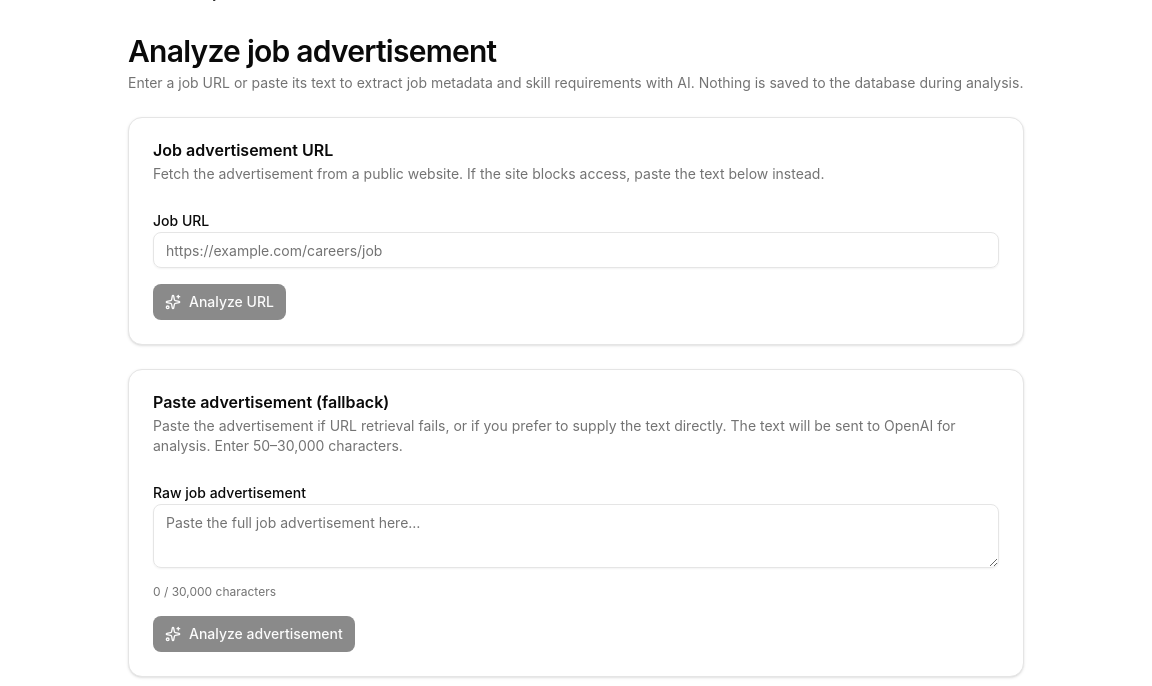
Test: AnalyzeJobView (URL-first) › preserves the URL on retrieval failure and allows manual paste fallback
Type "https://careers.example.com/jobs/42" into the field with id "job-url" at (576, 250), box [153,232,999,268]
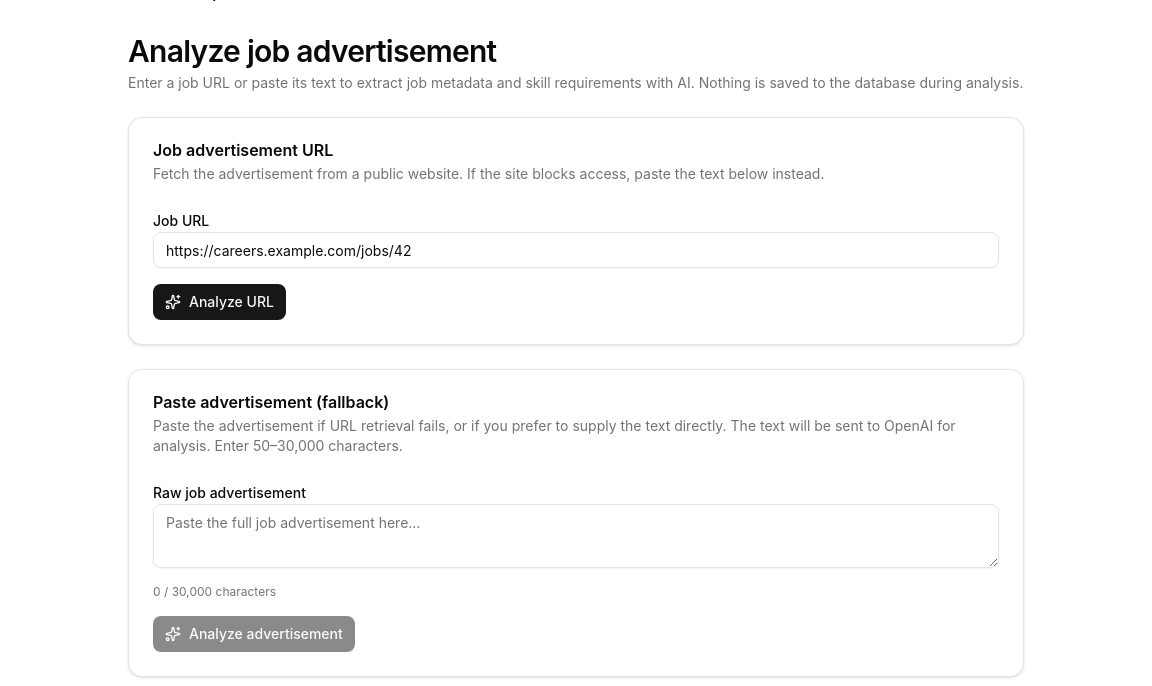
Submit the form, box [153,208,999,320]
Type "Example Company seeks a Senior TypeScript Developer for our Copenhagen office. Full-time employment." into the text box with id "job-advertisement" at (576, 536), box [153,504,999,568]
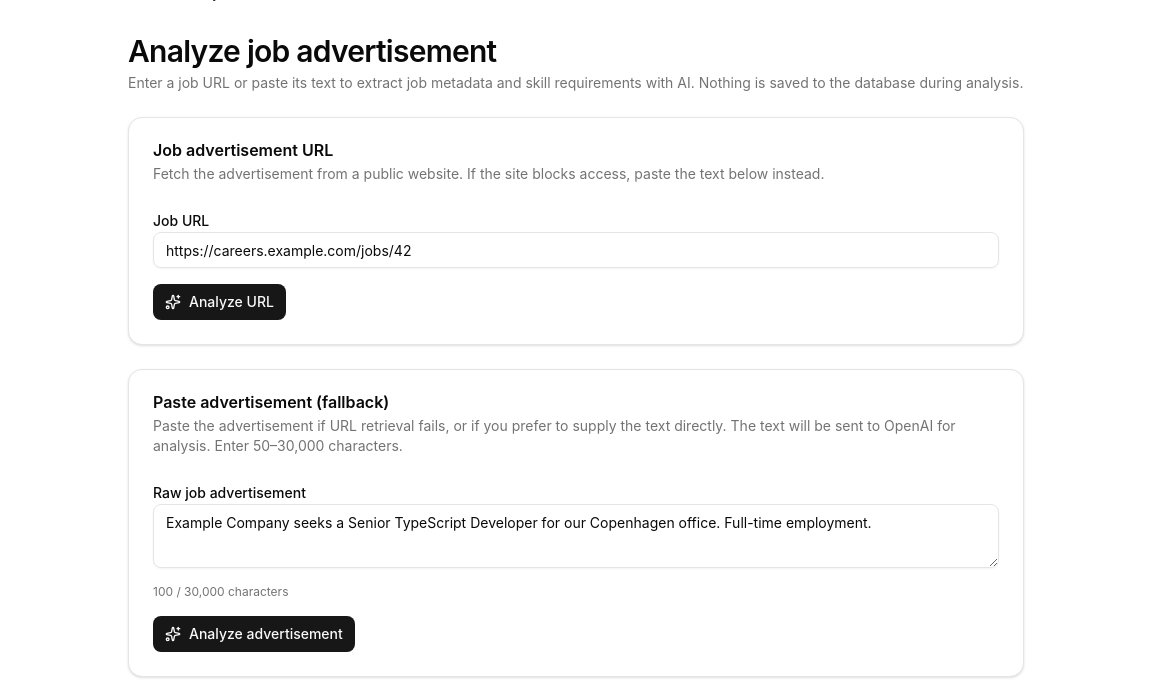
Click the button "Analyze advertisement" at (254, 634), box [153,616,355,652]
(page scrolled)
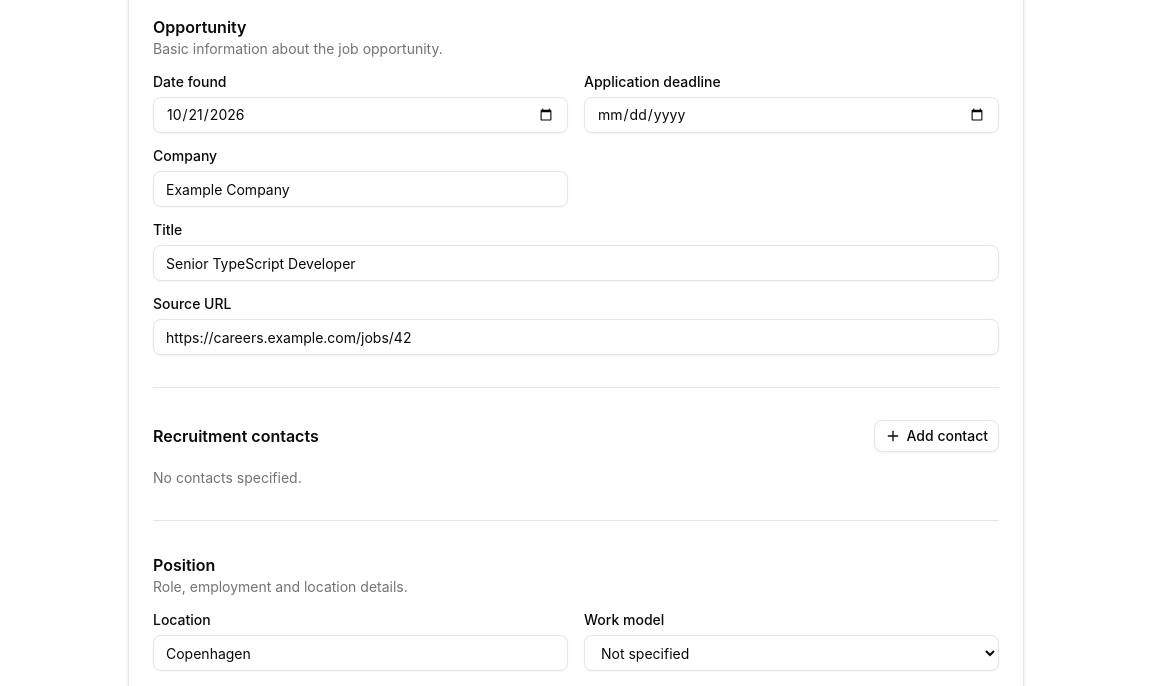
Expected: the field with id "source-url" holds "https://careers.example.com/jobs/42", [153,319,999,355]
